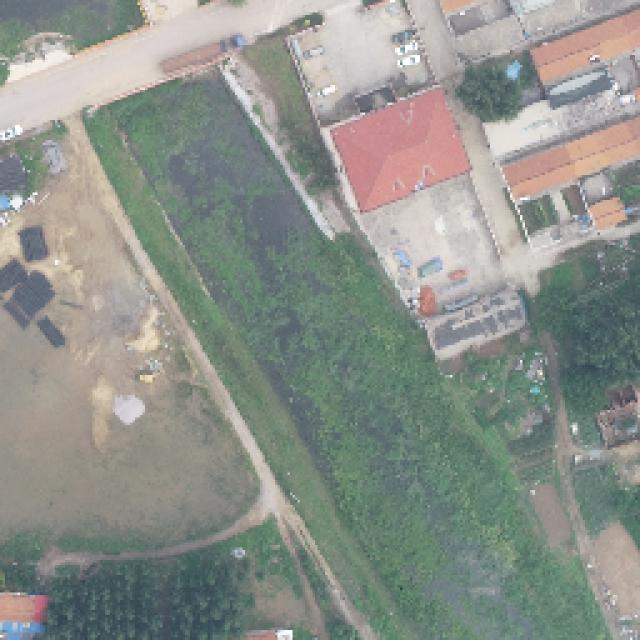Batiment: (331, 89, 470, 211), (504, 117, 640, 198), (532, 9, 640, 84), (0, 592, 49, 639), (162, 44, 221, 73), (589, 196, 628, 228)
